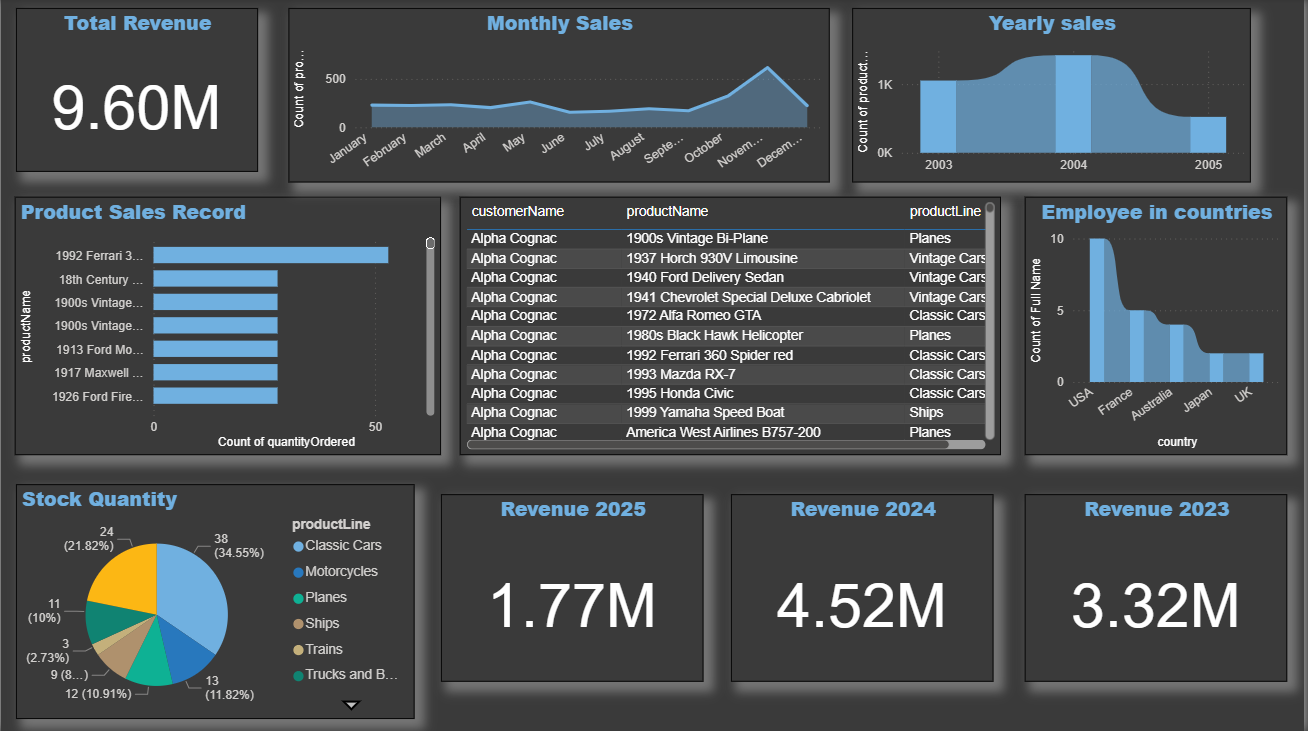

The page's visual inventory and layout, read from the dashboard file:
{"tool":"powerbi","page":{"name":"Page 1","canvas":[1280,720],"ordinal":0},"visuals":[{"type":"barChart","title":"Product Sales Record ","fields":{"Y":["CountNonNull(order details.quantityOrdered)"],"Category":["products.productName"]},"box":[13.7,194.9,418.5,253.9],"z":0},{"type":"areaChart","title":"Monthly Sales ","fields":{"Category":["orders.orderDate.Variation.Date Hierarchy.Month"],"Y":["CountNonNull(order details.productCode)"]},"box":[282.7,9.6,531,171.5],"z":1000},{"type":"card","title":"Total Revenue ","fields":{"Values":["order details.total revenue"]},"box":[15.1,9.6,237.4,160.5],"z":2000},{"type":"ribbonChart","title":"Yearly sales","fields":{"Category":["orders.orderDate.Variation.Date Hierarchy.Year"],"Y":["CountNonNull(order details.productCode)"]},"box":[835.7,9.6,391.1,171.5],"z":3000},{"type":"pieChart","title":"Stock Quantity ","fields":{"Y":["CountNonNull(products.quantityInStock)"],"Series":["products.productLine"]},"box":[15.1,477.5,391.1,230.5],"z":4000},{"type":"card","title":"Revenue 2023","fields":{"Values":["order details.Revenue 2003"]},"box":[1004.5,487.1,258,183.9],"z":5000},{"type":"card","title":"Revenue 2024","fields":{"Values":["order details.Revenue 2004"]},"box":[716.3,487.1,258,183.9],"z":6000},{"type":"card","title":"Revenue 2025","fields":{"Values":["order details.Revenue 2005"]},"box":[432.2,487.1,258,183.9],"z":7000},{"type":"tableEx","fields":{"Values":["customers.customerName","products.productName","products.productLine"]},"box":[450.1,194.9,531,253.9],"z":8000},{"type":"ribbonChart","title":"Employee in countries ","fields":{"Category":["offices.country"],"Y":["Count(employees.Full Name)"]},"box":[1004.5,194.9,258,253.9],"z":9001}]}

Visuals, with their boxes in screenshot pixels (x1, y1, x2, y2), scaled from the page's 1280x720 canvas onto the 1308x731 screenshot:
"Product Sales Record " barChart: detection(14, 198, 442, 456)
"Monthly Sales " areaChart: detection(289, 10, 831, 184)
"Total Revenue " card: detection(15, 10, 258, 173)
"Yearly sales" ribbonChart: detection(854, 10, 1254, 184)
"Stock Quantity " pieChart: detection(15, 485, 415, 719)
"Revenue 2023" card: detection(1026, 495, 1290, 681)
"Revenue 2024" card: detection(732, 495, 996, 681)
"Revenue 2025" card: detection(442, 495, 705, 681)
tableEx - customers.customerName x products.productName: detection(460, 198, 1003, 456)
"Employee in countries " ribbonChart: detection(1026, 198, 1290, 456)
